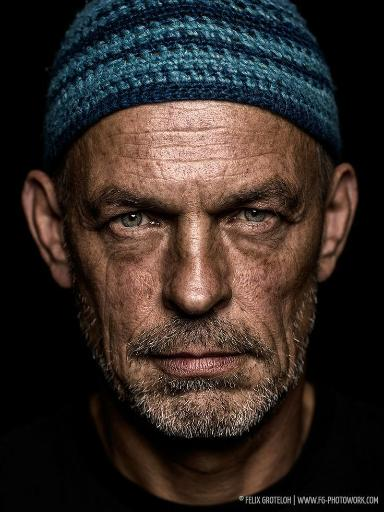left_eye: (225, 203, 291, 232)
left_lip_corner: (230, 342, 257, 369)
right_eye: (106, 204, 167, 235)
right_lip_corner: (146, 345, 169, 369)
